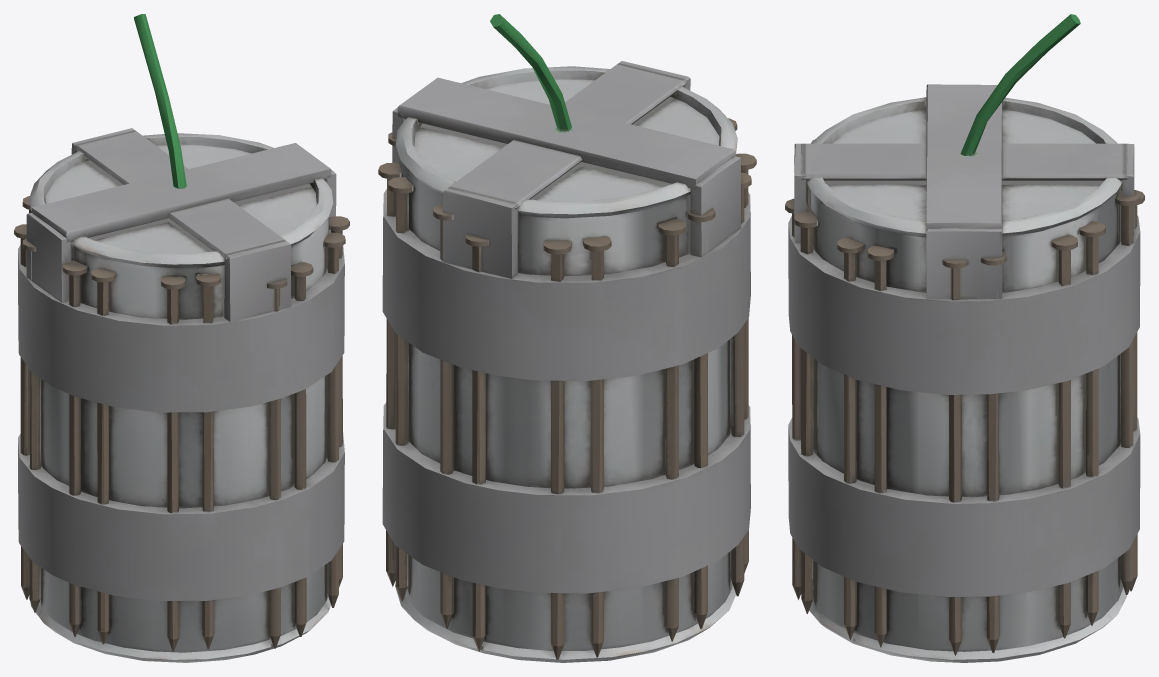
The model's file is bomba_pregos_leve.glb.
3 views of the same model, side by side, from view 1: azimuth 30°, elevation 25°; view 2: azimuth 150°, elevation 25°; view 3: azimuth 270°, elevation 25° (orthographic). The views are drawn at different scales.
Parts seen in each view (by area): view 1: bomba_pregos_leve; view 2: bomba_pregos_leve; view 3: bomba_pregos_leve.
Boxes of the visible parts, x1=… form: bomba_pregos_leve: x1=14, y1=14, x2=349, y2=662; bomba_pregos_leve: x1=378, y1=14, x2=756, y2=662; bomba_pregos_leve: x1=785, y1=14, x2=1144, y2=662.
Bounding box in the file's own units: 0.0835 × 0.1512 × 0.0839.
1 material, 1 textured.
